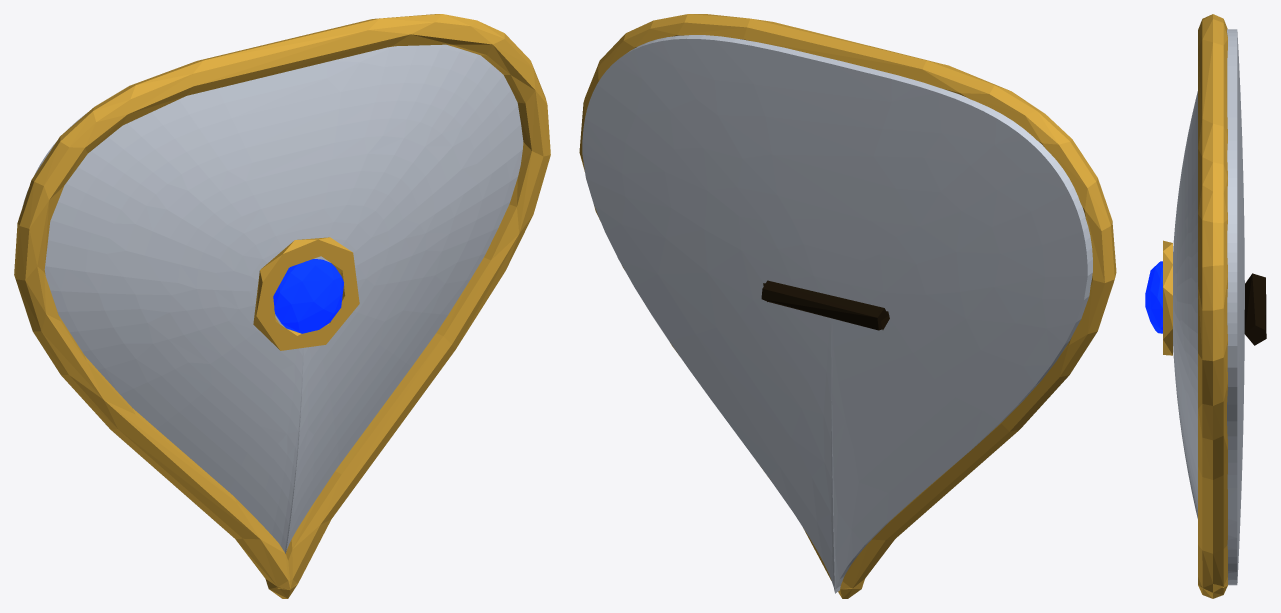
Rendered from shield_0.glb.
3 views of the same model, side by side, from view 1: azimuth 30°, elevation 25°; view 2: azimuth 150°, elevation 25°; view 3: azimuth 270°, elevation 25° (orthographic). The views are drawn at different scales.
Visible parts, largest first — view 1: part_01, part_02, part_05, part_04; view 2: part_01, part_02, part_06; view 3: part_02, part_01, part_06, part_05, part_04.
Part boxes in pixels (box(x1,y1,x2,y2)): part_01: box(22, 44, 523, 553); part_02: box(14, 14, 550, 598); part_05: box(253, 237, 359, 350); part_04: box(273, 259, 343, 333); part_01: box(582, 35, 1092, 593); part_02: box(579, 14, 1116, 598); part_06: box(761, 280, 887, 330); part_02: box(1198, 14, 1227, 598); part_01: box(1173, 29, 1244, 585); part_06: box(1244, 273, 1266, 345); part_05: box(1163, 240, 1172, 355); part_04: box(1145, 261, 1162, 333).
Size of the model in its own units: 0.9226 by 0.9212 by 0.1941.
